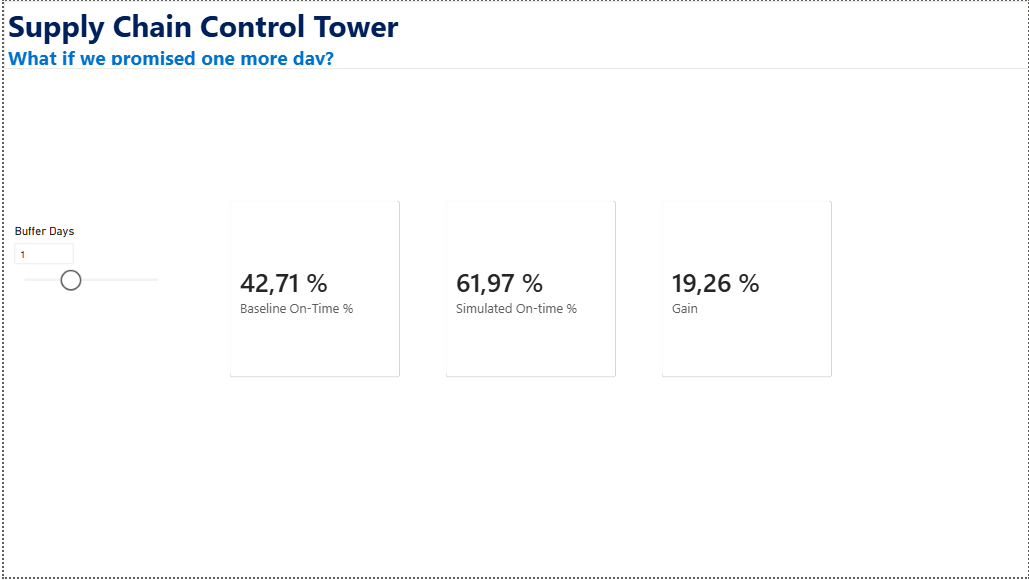

The dashboard page shown, as its layout file describes it:
{"tool":"powerbi","page":{"name":"Delivery Simulator","canvas":[1280,720],"ordinal":3},"visuals":[{"type":"slicer","fields":{"Values":["Bufffer.Bufffer"]},"box":[0,275,215,168.8],"z":0},{"type":"cardVisual","fields":{"Data":["Facts_Order.Simulated On-time %"]},"box":[535,232.5,208.9,255.6],"z":2},{"type":"textbox","box":[0,0,1800,85],"z":3},{"type":"cardVisual","fields":{"Data":["Facts_Order.Simulated On-time %"]},"box":[535,232.5,247.5,255],"z":4},{"type":"cardVisual","fields":{"Data":["Facts_Order.On-time Delta (pts)"]},"box":[805,232.5,247.5,255],"z":6},{"type":"cardVisual","fields":{"Data":["Facts_Order.Baseline On-Time %"]},"box":[265,232.5,247.5,255],"z":7}]}

Visuals, with their boxes in screenshot pixels (x1, y1, x2, y2), scaled from the page's 1280x720 canvas onto the 1029x580 screenshot:
slicer - Bufffer.Bufffer: bbox=(0, 222, 173, 358)
cardVisual - Facts_Order.Simulated On-time %: bbox=(430, 187, 598, 393)
textbox: bbox=(0, 0, 1028, 68)
cardVisual - Facts_Order.Simulated On-time %: bbox=(430, 187, 629, 393)
cardVisual - Facts_Order.On-time Delta (pts): bbox=(647, 187, 846, 393)
cardVisual - Facts_Order.Baseline On-Time %: bbox=(213, 187, 412, 393)
